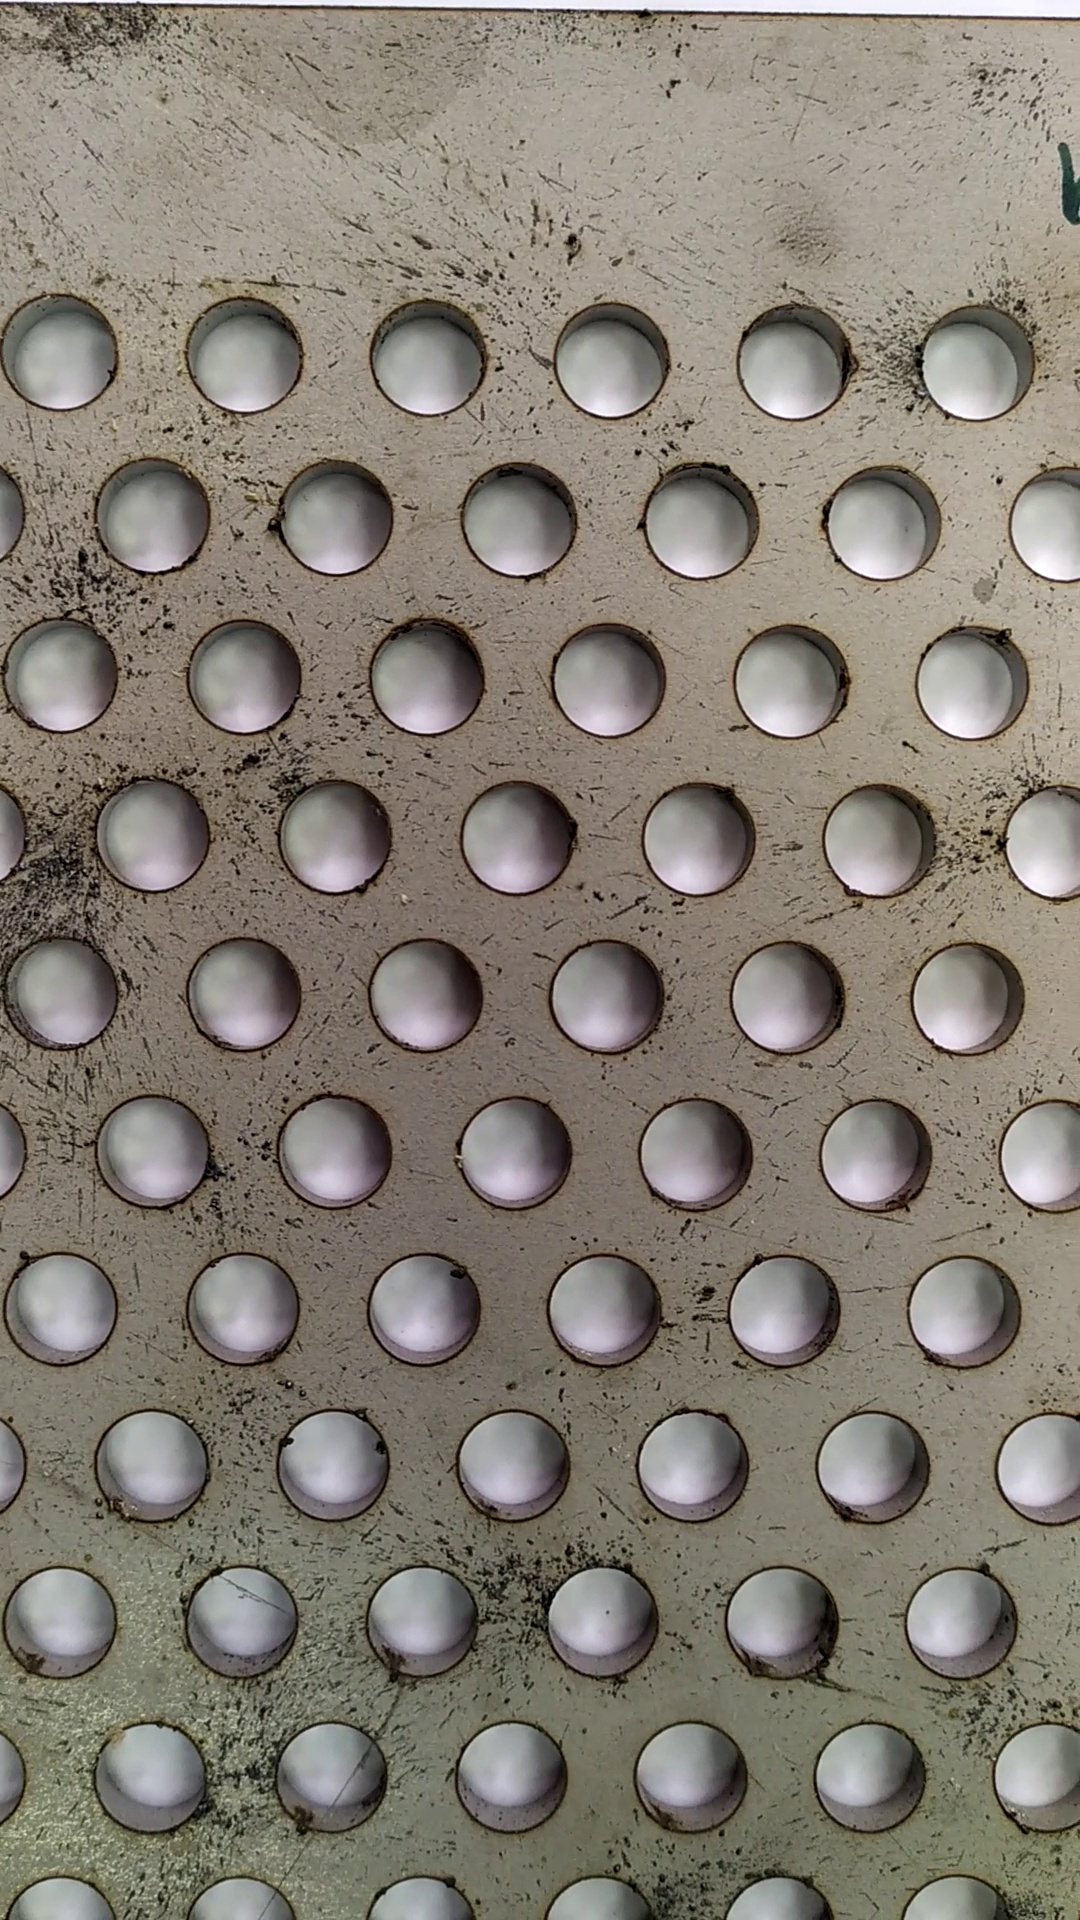Hole: (261, 770, 414, 903), (75, 1396, 229, 1528), (444, 450, 592, 587), (894, 1242, 1040, 1379), (806, 458, 963, 585), (175, 1244, 322, 1377), (632, 446, 769, 585), (720, 615, 861, 750), (76, 444, 222, 575), (447, 771, 593, 899), (438, 1713, 585, 1840), (84, 1085, 224, 1217), (530, 1242, 671, 1373), (177, 284, 314, 417), (906, 293, 1043, 426), (83, 760, 214, 899), (624, 1712, 764, 1842), (173, 611, 314, 740), (265, 1400, 402, 1532), (262, 1083, 400, 1213), (4, 926, 138, 1058), (541, 926, 671, 1062), (716, 1560, 853, 1689), (84, 1706, 222, 1836), (898, 934, 1038, 1060), (448, 1400, 585, 1528), (723, 936, 862, 1062), (534, 1553, 669, 1683), (451, 1087, 579, 1222), (814, 777, 953, 901), (628, 1403, 760, 1534), (365, 1244, 491, 1381), (812, 1403, 943, 1534), (269, 450, 398, 582), (891, 1556, 1026, 1683), (361, 287, 489, 419), (551, 293, 679, 425), (628, 1091, 760, 1218), (3, 605, 128, 740), (175, 928, 306, 1056), (357, 1556, 489, 1683), (906, 617, 1036, 744), (359, 613, 491, 738), (1, 284, 135, 407), (261, 1716, 398, 1836), (818, 1091, 945, 1218), (541, 613, 669, 740), (367, 930, 489, 1062), (3, 1240, 124, 1373), (636, 773, 765, 897), (175, 1557, 305, 1681), (732, 295, 858, 419), (8, 1557, 127, 1689), (723, 1246, 843, 1373), (812, 1713, 924, 1832)
